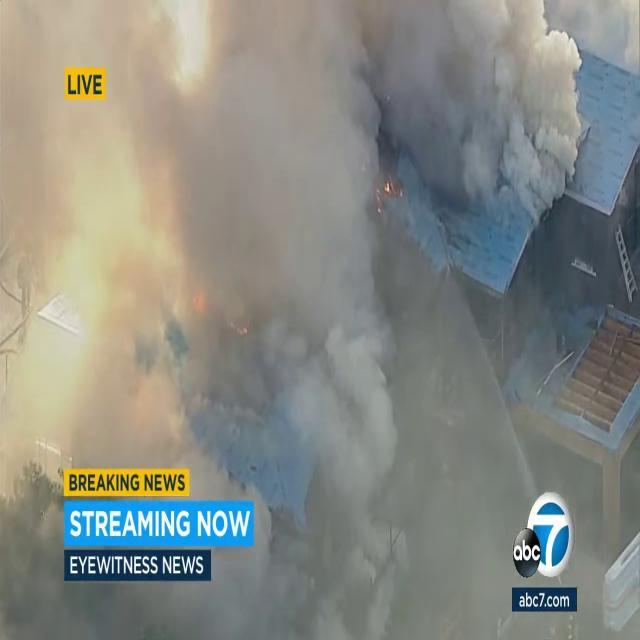Smoke: (0, 0, 432, 478), (376, 0, 582, 248)
